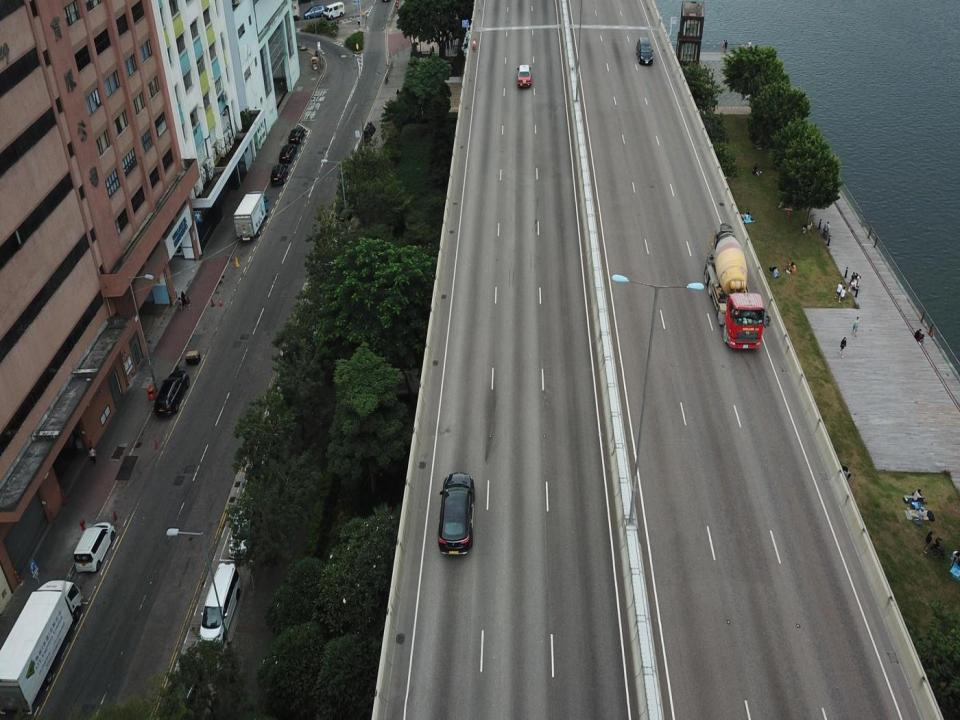car: (199, 562, 241, 648), (436, 472, 476, 558), (73, 522, 116, 574), (227, 494, 257, 560), (154, 371, 189, 417), (635, 36, 654, 66), (270, 162, 289, 187), (516, 64, 533, 90), (279, 142, 298, 164), (288, 127, 306, 144), (304, 5, 324, 19)
truck: (0, 579, 83, 718), (703, 222, 771, 351), (233, 190, 269, 241)
van: (323, 1, 345, 19)
